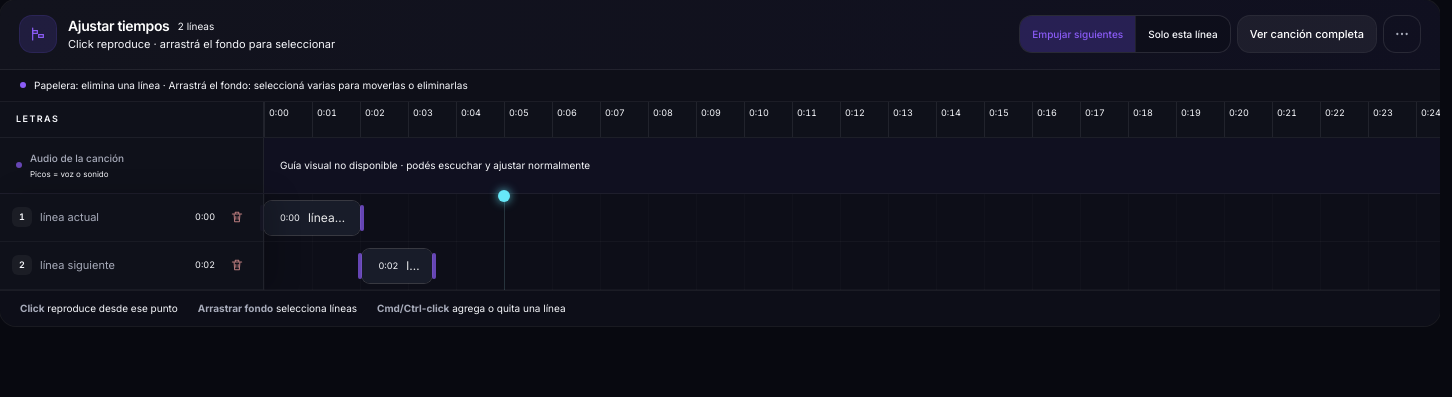
it: LyricsTimeline › keeps the right edge safe when the operator chooses Solo esta línea
Click the button "Solo esta línea": coordinates (1182, 34) [1135,16,1230,52]
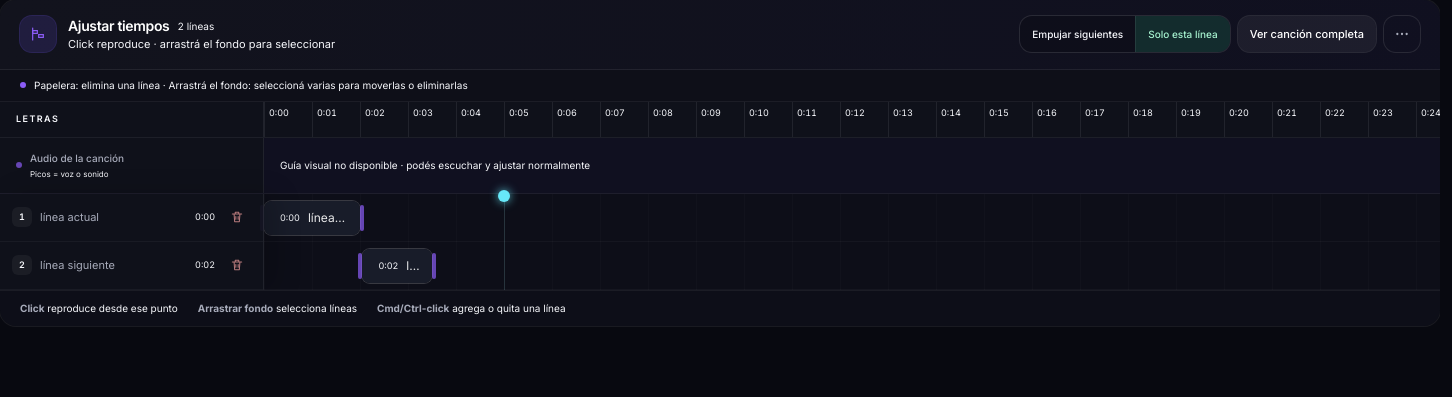
Press the mouse on the 1st element with test id "timeline-edge-end": coordinates (362, 218) [360,204,364,230]
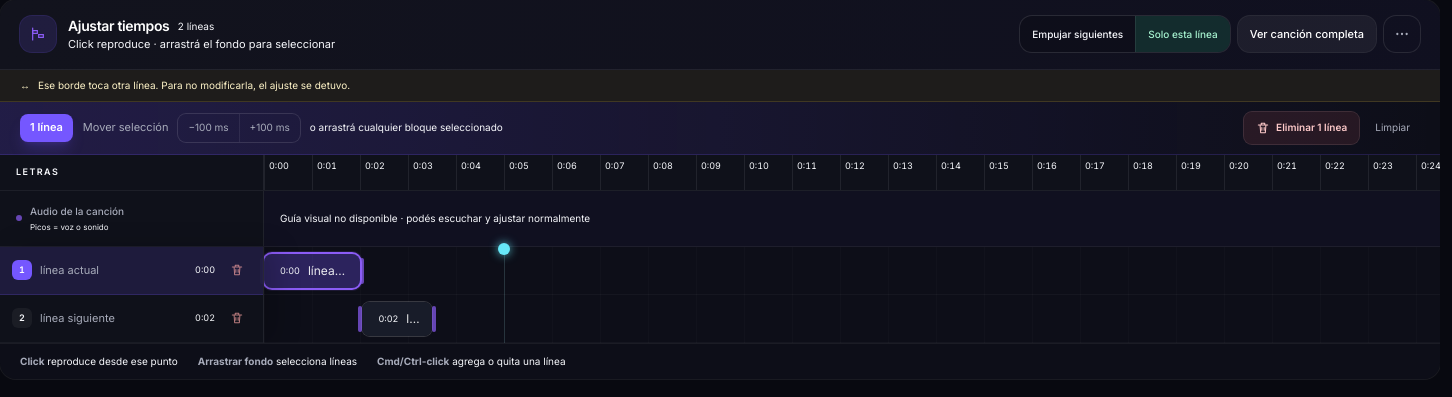
Now the message with test id "timeline-limit-feedback" shows "Para no modificarla, el ajuste se detuvo", box [38,78,350,90]
